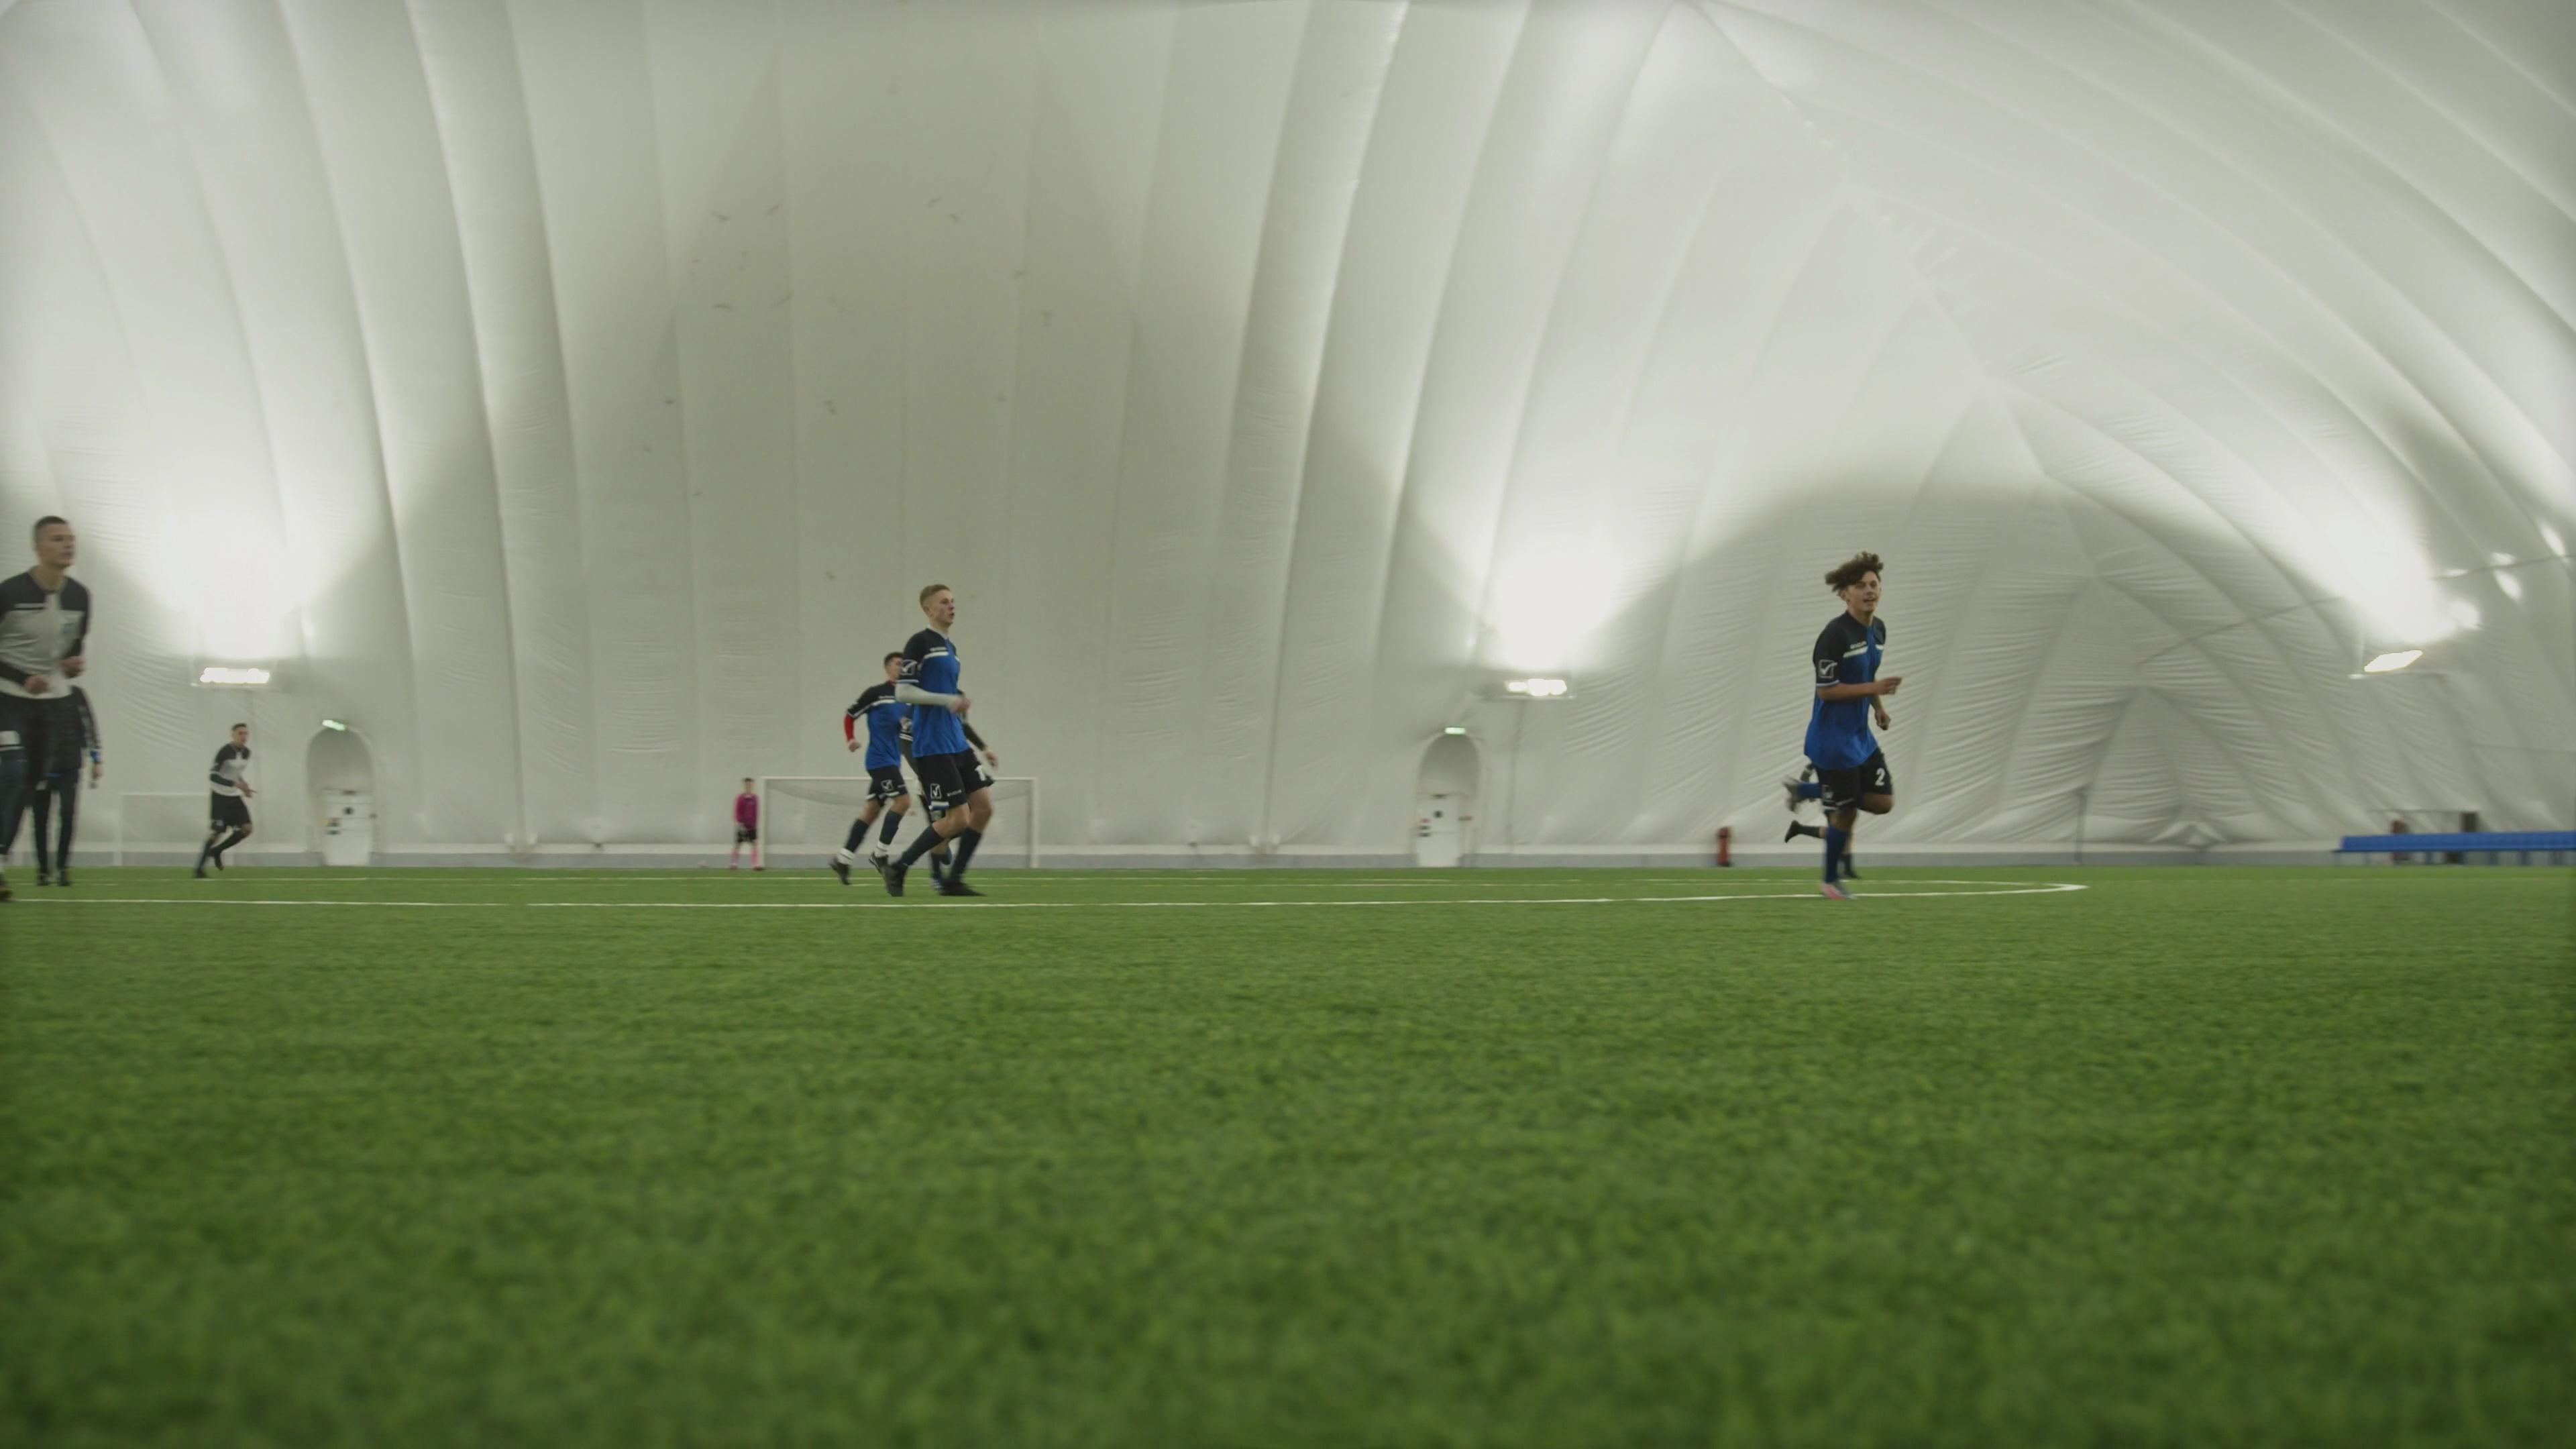team1: (865, 580, 994, 899), (1790, 550, 1902, 895), (839, 655, 922, 865)
team1gk: (729, 777, 764, 870)
team2: (0, 515, 97, 892), (195, 722, 255, 878)
